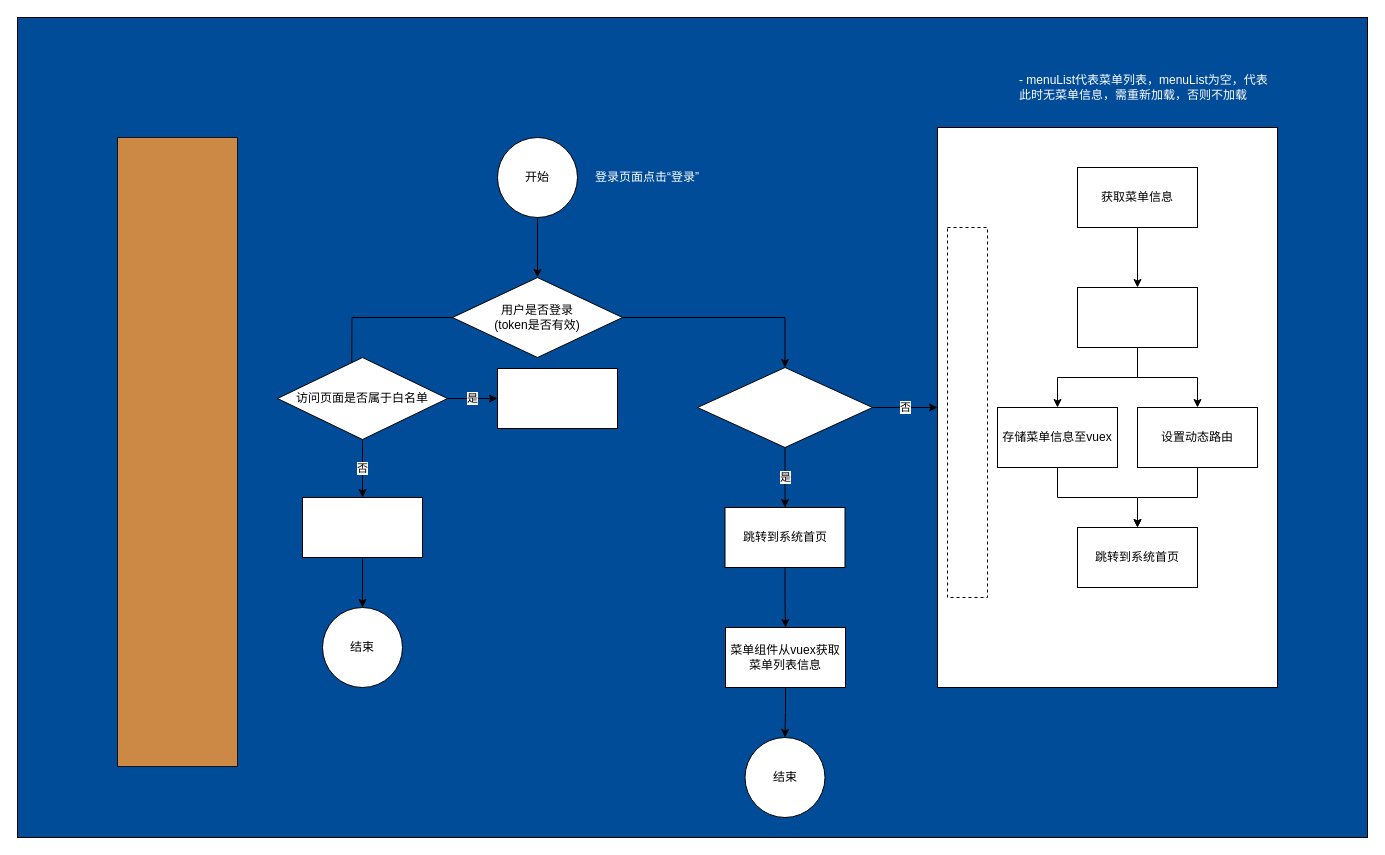
This 1385x855 diagram has some shape labels left out. Each missing label, with the centre of its shape:
刷新（F5或者右键刷新时）页面时,menuList丢失，此处重新加载菜单信息（后台返回无权限信息时，用代码刷新页面，此处menuList丢失，将重新加载）: point 177,451
是否已经加载过菜单信息: point 784,407
格式化菜单信息、拼接404路由: point 1137,317
设置动态路由（菜单信息）: point 967,412
跳转到白名单页面: point 557,398
跳转登录页面: point 362,527
